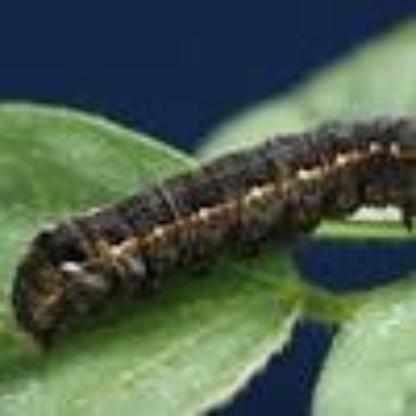oruga: (12, 113, 416, 341)
